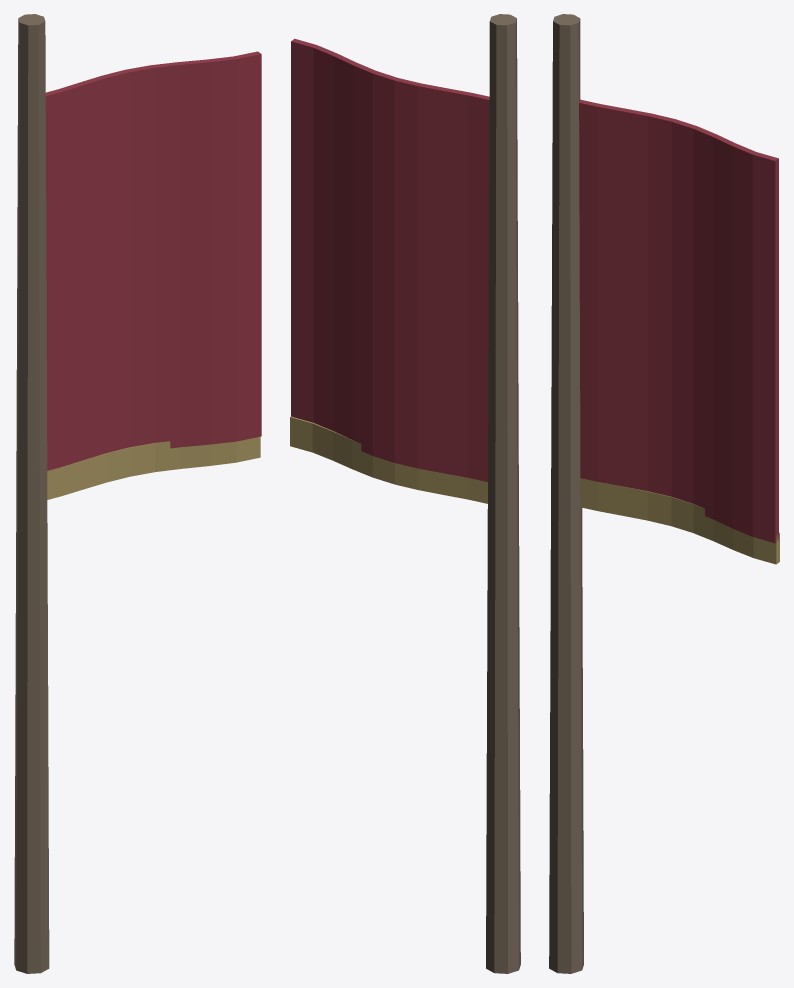
File: Banner.fbx
3 renders of one model, left to right at view 1: azimuth 30°, elevation 25°; view 2: azimuth 150°, elevation 25°; view 3: azimuth 330°, elevation 25°, orthographic.
Visible parts, largest first — view 1: Banner; view 2: Banner; view 3: Banner.
Part boxes in pixels (<box>): Banner: <box>14,14,261,973</box>; Banner: <box>290,14,520,973</box>; Banner: <box>549,14,779,973</box>.
Bounding box in the file's own units: 67.5 × 260 × 9.73.
